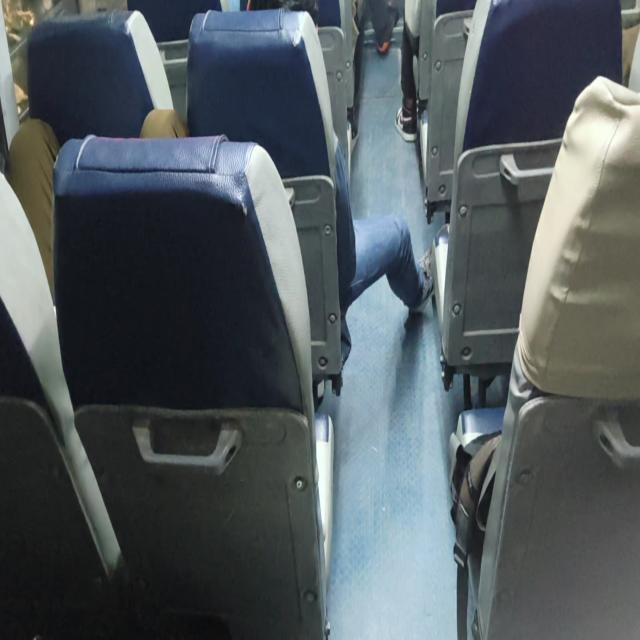person: (186, 5, 436, 371), (5, 105, 189, 306), (332, 130, 435, 370), (394, 0, 422, 143)
